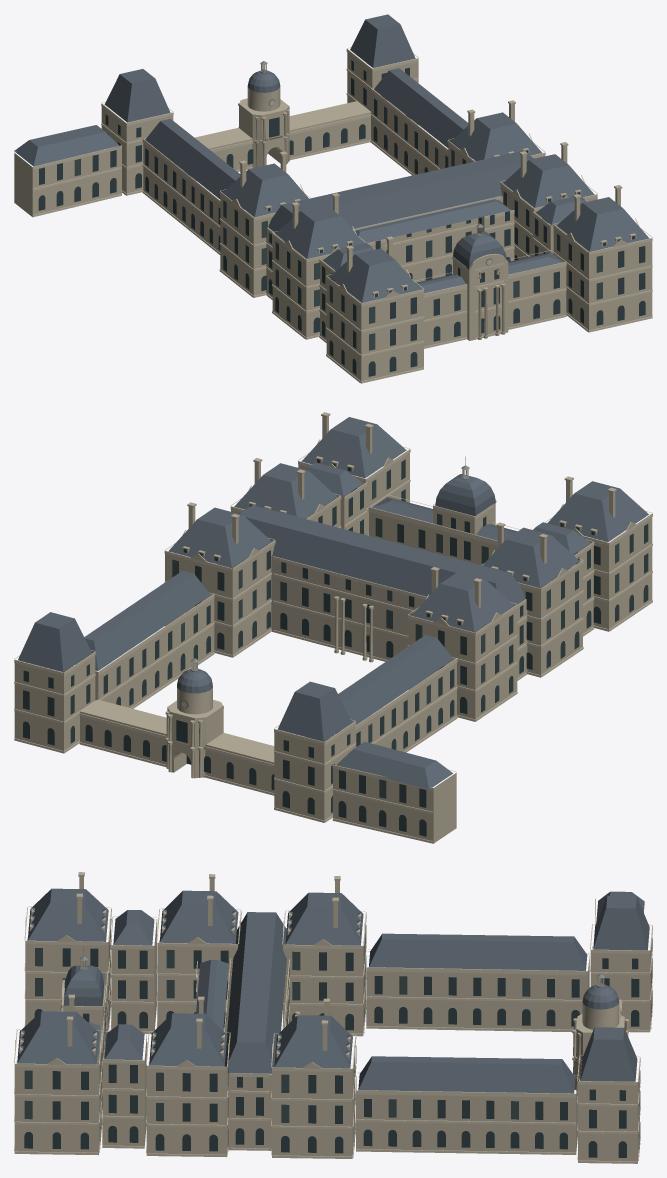
The model's file is palais-du-luxembourg-far.glb.
3 renders of one model, top to bottom at view 1: azimuth 30°, elevation 25°; view 2: azimuth 150°, elevation 25°; view 3: azimuth 270°, elevation 25°, orthographic. The views are drawn at different scales.
Visible parts, largest first — view 1: palais-du-luxembourg-0-stone, palais-du-luxembourg-0-roof, palais-du-luxembourg-0-trim, palais-du-luxembourg-0-glass, palais-du-luxembourg-0-glow; view 2: palais-du-luxembourg-0-stone, palais-du-luxembourg-0-roof, palais-du-luxembourg-0-glass, palais-du-luxembourg-0-trim, palais-du-luxembourg-0-glow; view 3: palais-du-luxembourg-0-stone, palais-du-luxembourg-0-roof, palais-du-luxembourg-0-trim, palais-du-luxembourg-0-glass, palais-du-luxembourg-0-glow.
Part boxes in pixels (x1,y1,x2,y2): palais-du-luxembourg-0-stone: (14,52,652,383); palais-du-luxembourg-0-roof: (14,14,649,302); palais-du-luxembourg-0-trim: (14,47,652,383); palais-du-luxembourg-0-glass: (38,60,645,376); palais-du-luxembourg-0-glow: (74,106,602,350); palais-du-luxembourg-0-stone: (14,412,652,843); palais-du-luxembourg-0-roof: (18,417,648,789); palais-du-luxembourg-0-glass: (23,459,648,836); palais-du-luxembourg-0-trim: (14,447,652,843); palais-du-luxembourg-0-glow: (116,479,619,798); palais-du-luxembourg-0-stone: (14,872,652,1163); palais-du-luxembourg-0-roof: (17,888,649,1093); palais-du-luxembourg-0-trim: (14,898,652,1163); palais-du-luxembourg-0-glass: (24,916,652,1157); palais-du-luxembourg-0-glow: (24,943,530,1122).
Bounding box in the file's own units: 117 × 34.26 × 152.
